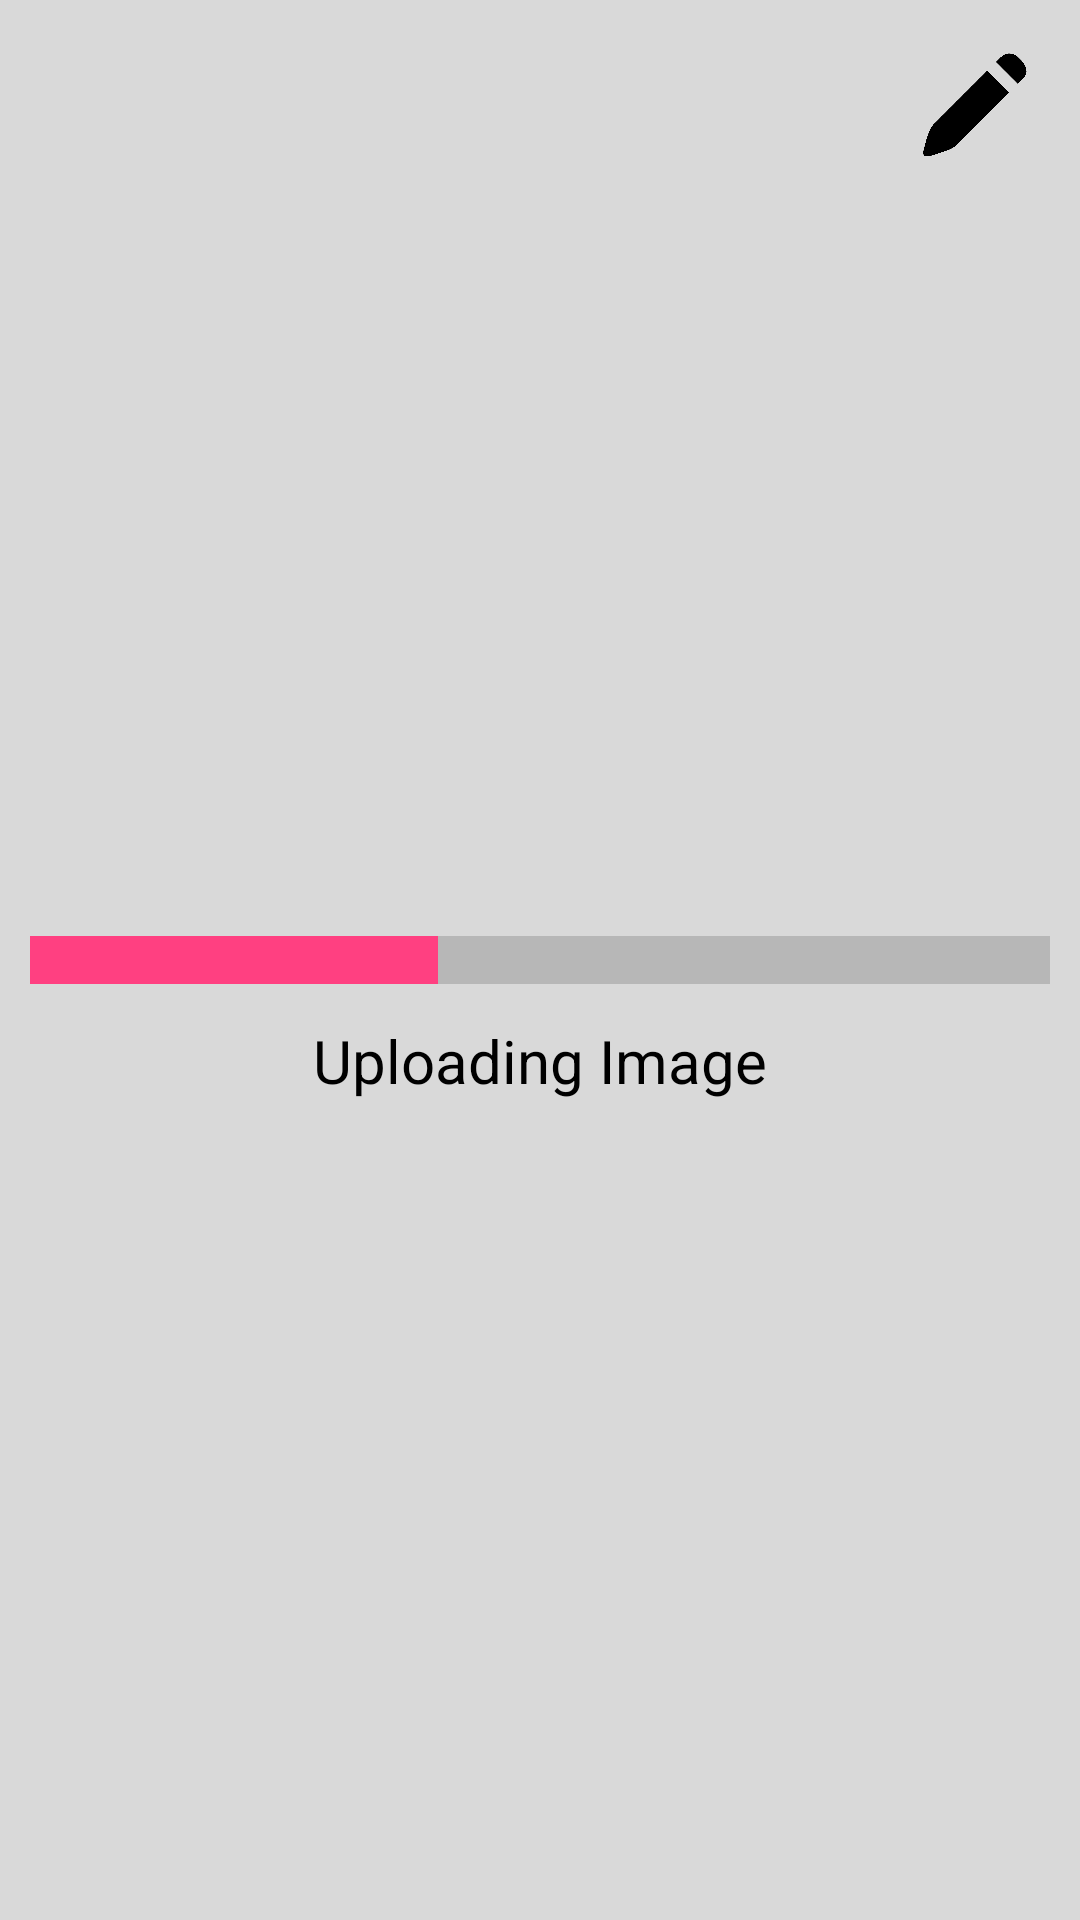

Screen size 1080×1920. Icon name, then its box in pixels as (x1, y1, x2, y2):
edit: (923, 53, 1027, 156)
